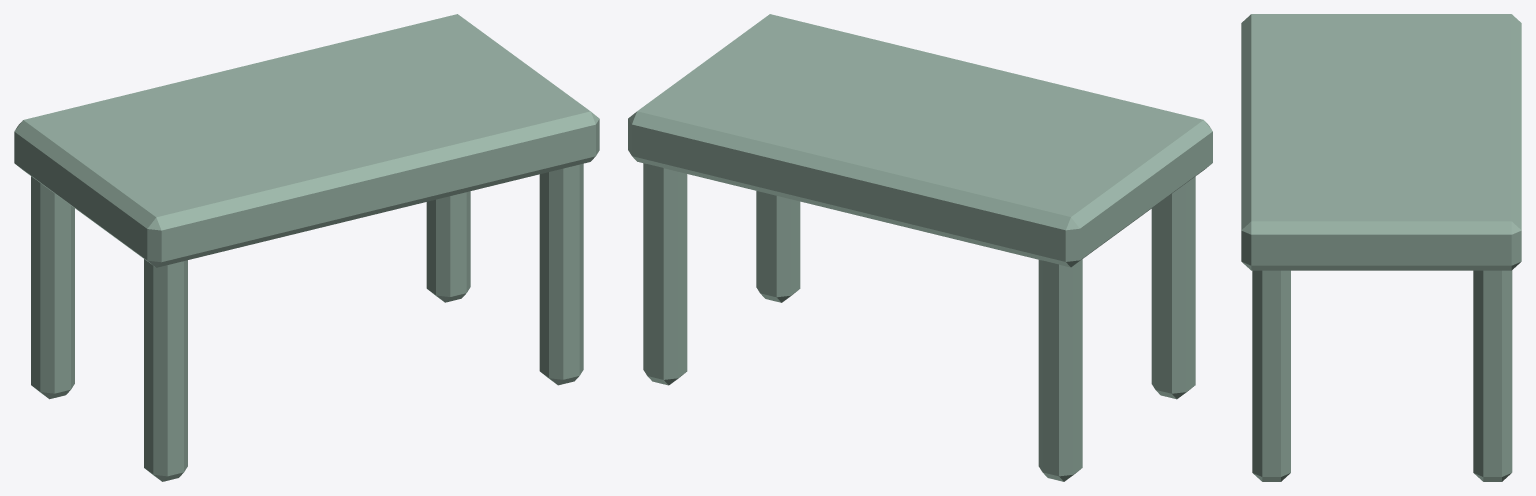
Rendered from Desk.fbx.
3 renders of one model, left to right at view 1: azimuth 30°, elevation 25°; view 2: azimuth 150°, elevation 25°; view 3: azimuth 270°, elevation 25°, orthographic. The views are drawn at different scales.
Parts seen in each view (by area): view 1: desk; view 2: desk; view 3: desk.
Part boxes in pixels (x1,y1,x2,y2): desk: [14, 14, 599, 481]; desk: [628, 14, 1212, 481]; desk: [1241, 14, 1521, 481].
Bounding box in the file's own units: 879 × 504 × 483.
